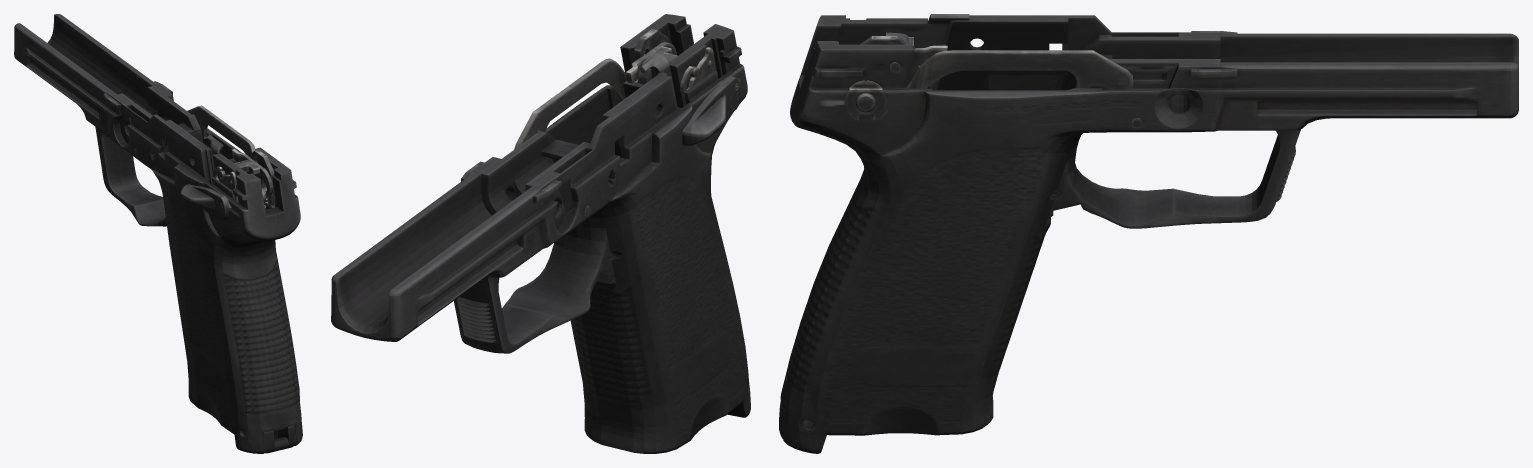
3 views of the same model, side by side, from view 1: azimuth 30°, elevation 25°; view 2: azimuth 150°, elevation 25°; view 3: azimuth 270°, elevation 25° (orthographic). The views are drawn at different scales.
Parts seen in each view (by area): view 1: TW_6193a720f8ee7e52e42109ed_PZ_Import; view 2: TW_6193a720f8ee7e52e42109ed_PZ_Import; view 3: TW_6193a720f8ee7e52e42109ed_PZ_Import.
Boxes of the visible parts, <box> form: TW_6193a720f8ee7e52e42109ed_PZ_Import: <box>14,14,302,453</box>; TW_6193a720f8ee7e52e42109ed_PZ_Import: <box>331,14,750,453</box>; TW_6193a720f8ee7e52e42109ed_PZ_Import: <box>779,14,1518,453</box>.
Bounding box in the file's own units: 0.0219 × 0.1165 × 0.0715.
Materials: 1 (1 with a texture image).
